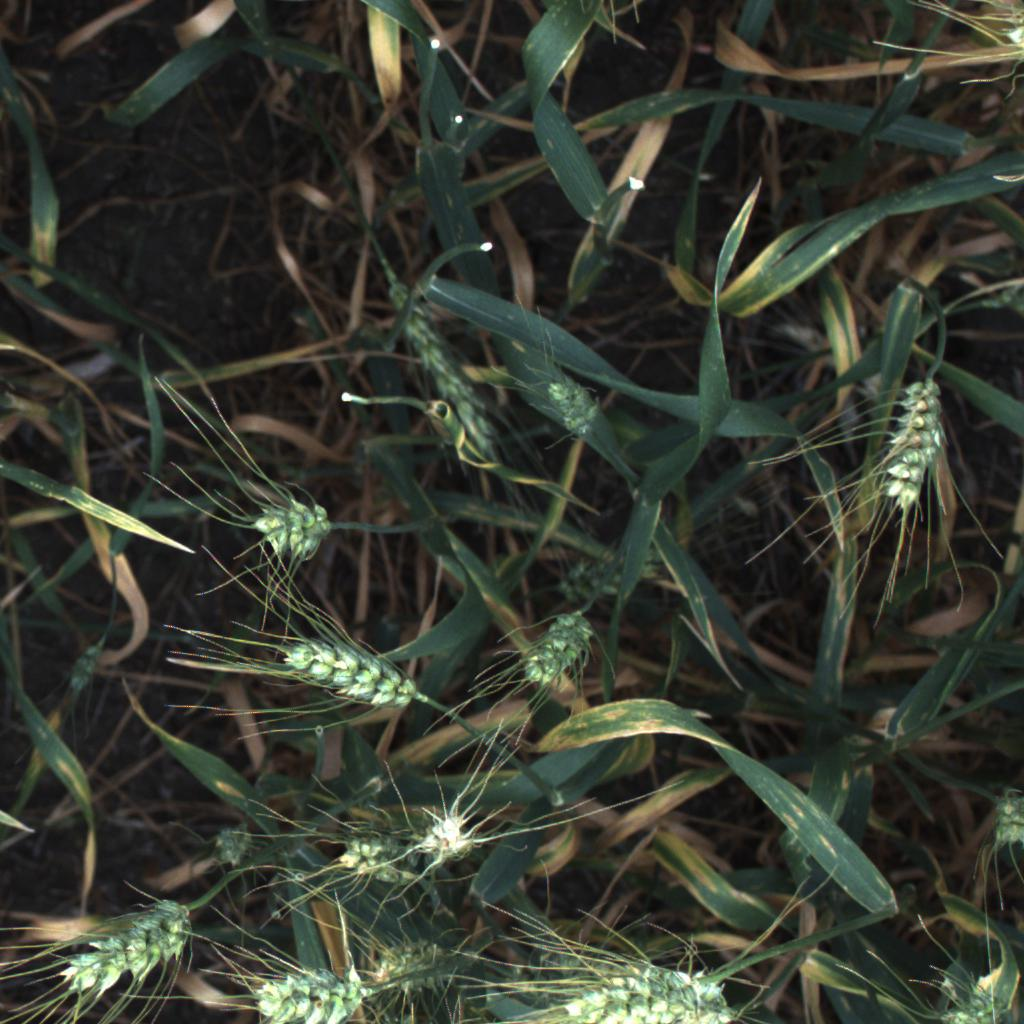0-0: (385, 267, 499, 457), (47, 885, 208, 1001), (274, 617, 435, 717), (867, 372, 946, 527), (550, 952, 725, 1016), (506, 595, 605, 702), (352, 929, 472, 1008), (245, 958, 380, 1024), (329, 816, 434, 887), (410, 802, 495, 871), (537, 363, 608, 443), (252, 493, 329, 561), (930, 976, 1020, 1024), (983, 771, 1024, 859), (589, 1007, 769, 1024), (980, 0, 1024, 69)
